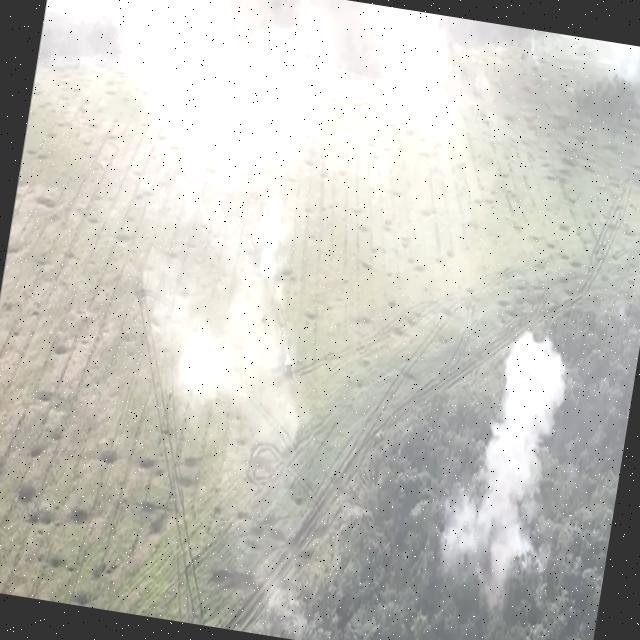APC: (373, 428, 388, 448)
MBT: (282, 357, 297, 379)
